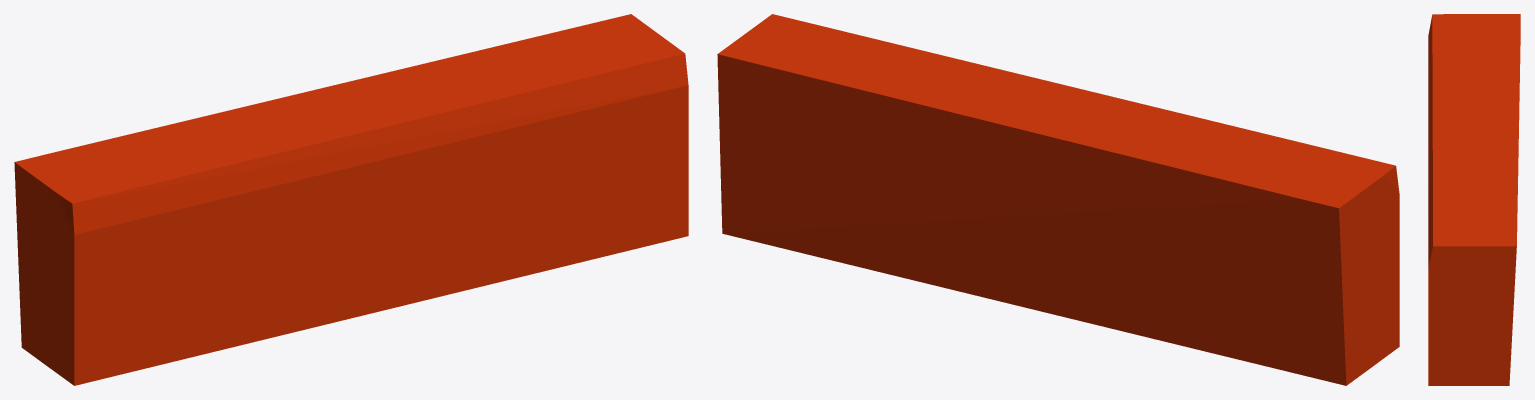
The picture shows the model from 3 angles, left to right: view 1: azimuth 30°, elevation 25°; view 2: azimuth 150°, elevation 25°; view 3: azimuth 270°, elevation 25°; orthographic projection. The views are drawn at different scales.
Size of the model in its own units: 1.97 by 0.5531 by 0.3324.
